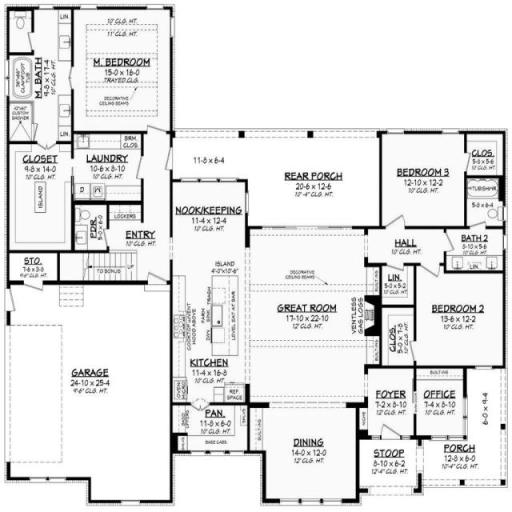Room: (267, 412, 359, 492), (413, 374, 463, 429)
bathroom: (10, 12, 68, 135), (452, 230, 495, 270)
bedroom: (76, 15, 171, 127), (416, 270, 511, 366), (387, 136, 463, 222)
garage: (12, 283, 166, 497)
hall: (252, 232, 363, 400), (371, 228, 448, 268)
kitchen: (179, 342, 247, 401)
laundary: (78, 136, 142, 202)
porch: (198, 134, 374, 228), (424, 436, 512, 492)
